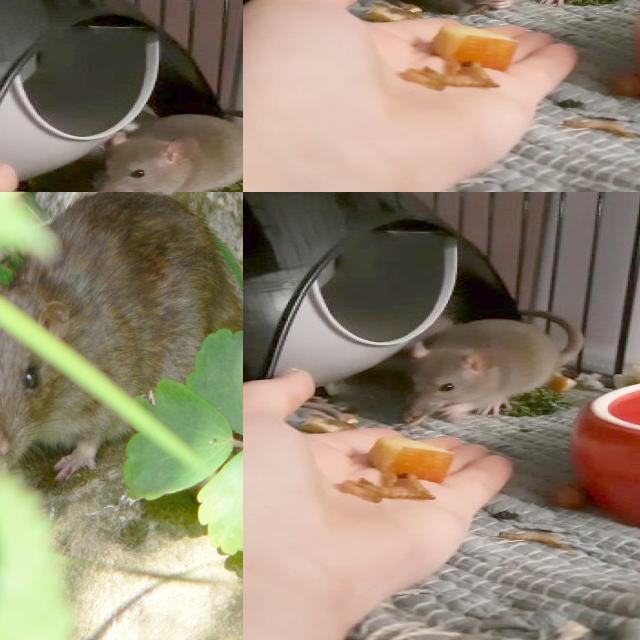rat: (0, 195, 242, 471), (399, 315, 567, 419), (91, 111, 243, 192)
